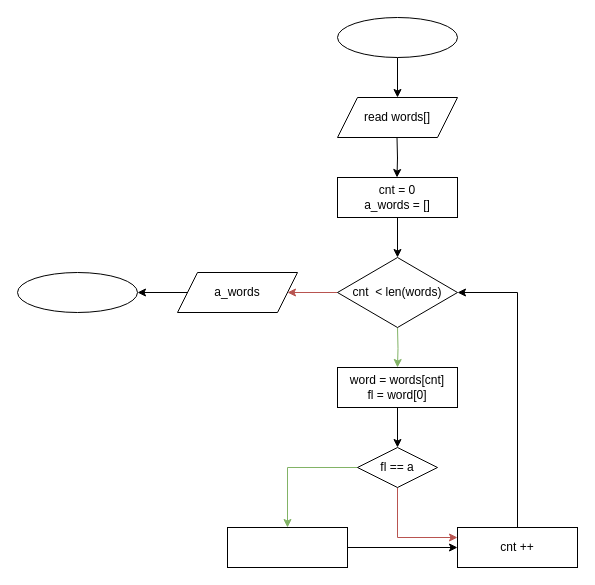
Image size: 595x585. Some labels were removed from this diagram. The shapes that lost their labels are listed below. From the top down, each one's centre as x and y in pixels, then its label:
the point at 397,37: START
the point at 77,292: END
the point at 287,547: a_words += word
